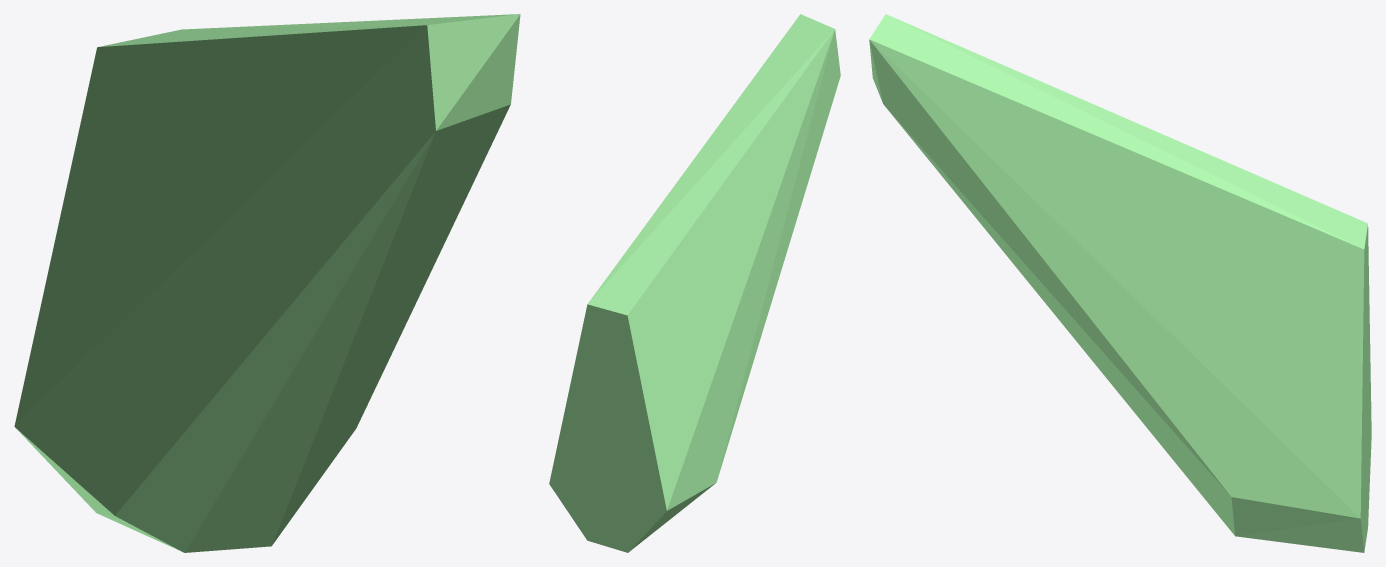
File: dvkr_robot_L2_respondable_PSM1_coll_16.dae
3 views of the same model, side by side, from view 1: azimuth 30°, elevation 25°; view 2: azimuth 150°, elevation 25°; view 3: azimuth 270°, elevation 25° (orthographic). The views are drawn at different scales.
Visible parts, largest first — view 1: Node_0000023514CD84E0; view 2: Node_0000023514CD84E0; view 3: Node_0000023514CD84E0.
Part boxes in pixels (left/top/right/bottom): Node_0000023514CD84E0: left=14, top=14, right=520, bottom=552; Node_0000023514CD84E0: left=549, top=14, right=840, bottom=552; Node_0000023514CD84E0: left=869, top=14, right=1371, bottom=552.
Size of the model in its own units: 0.014 by 0.0429 by 0.0389.
